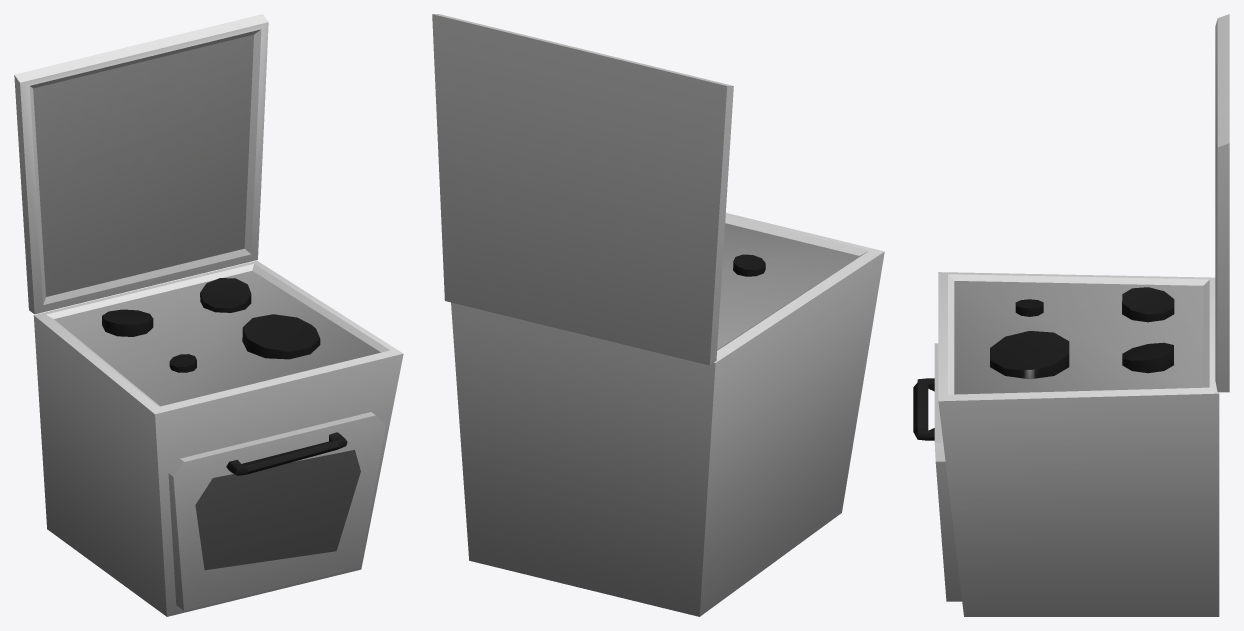
The model's file is forno.fbx.
3 views of the same model, side by side, from view 1: azimuth 30°, elevation 25°; view 2: azimuth 150°, elevation 25°; view 3: azimuth 270°, elevation 25° (orthographic). The views are drawn at different scales.
Parts seen in each view (by area): view 1: SM_fornelli; view 2: SM_fornelli; view 3: SM_fornelli.
Boxes of the visible parts, x1=… form: SM_fornelli: x1=14, y1=14, x2=403, y2=616; SM_fornelli: x1=432, y1=14, x2=884, y2=616; SM_fornelli: x1=913, y1=14, x2=1229, y2=616.
Size of the model in its own units: 181 by 314 by 185.
